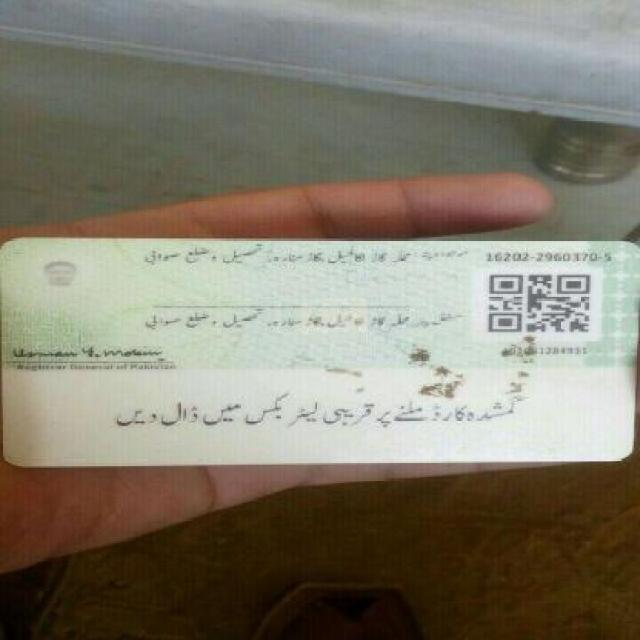Back: (2, 233, 630, 464)
